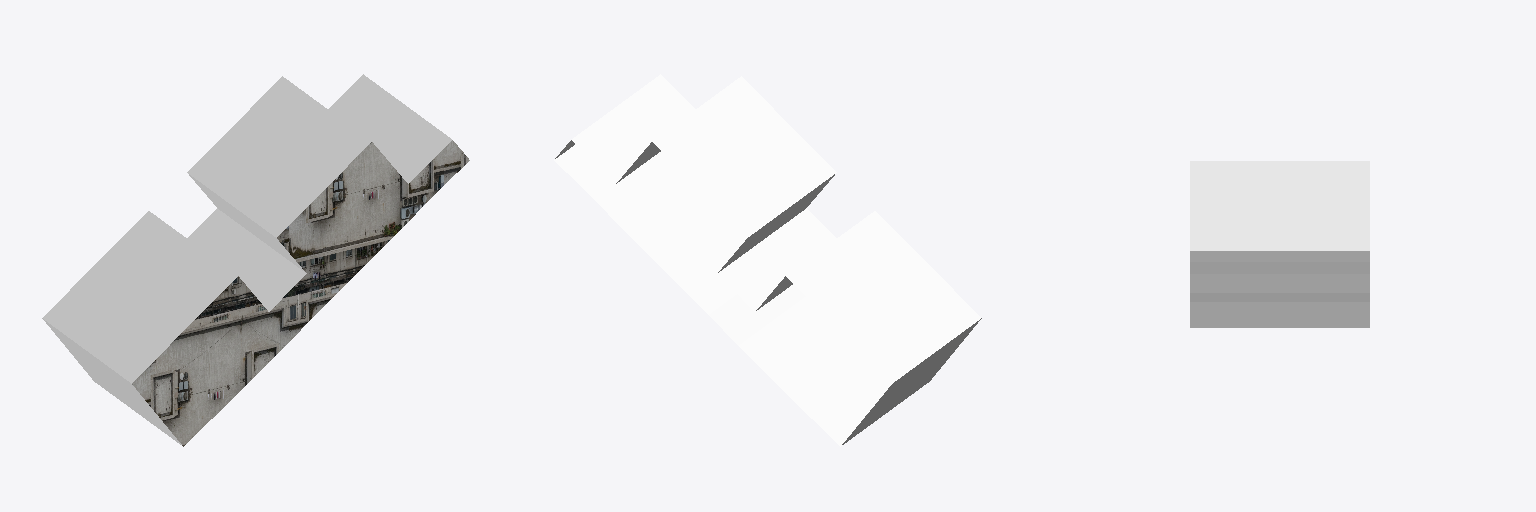
3 views of the same model, side by side, from view 1: azimuth 30°, elevation 25°; view 2: azimuth 150°, elevation 25°; view 3: azimuth 270°, elevation 25° (orthographic).
Parts seen in each view (by area): view 1: Building; view 2: Building; view 3: Building.
Part boxes in pixels (bbox=[...]): Building: bbox=[42, 74, 469, 446]; Building: bbox=[554, 74, 981, 446]; Building: bbox=[1190, 161, 1369, 327].
Size of the model in its own units: 19.64 by 14.38 by 9.
Materials: 2 (1 with a texture image).